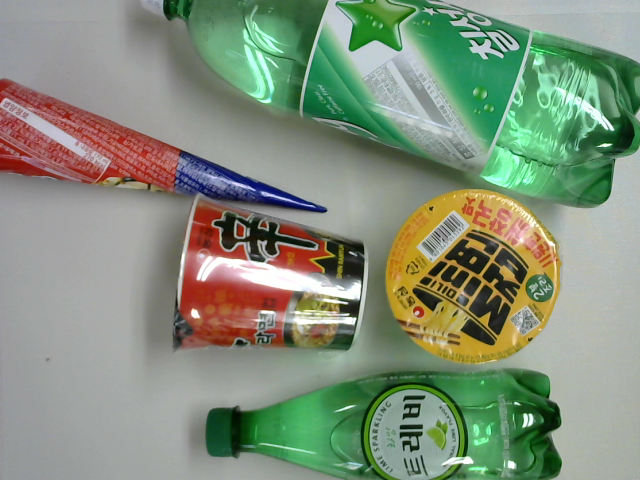Chilseong_Cider_1.5L: (141, 1, 639, 208)
Hejangmini: (384, 188, 561, 359)
Sinramen_small: (171, 193, 368, 352)
Treviraim_500ml: (203, 366, 563, 480)
World_Cone_Banila: (1, 74, 329, 213)
